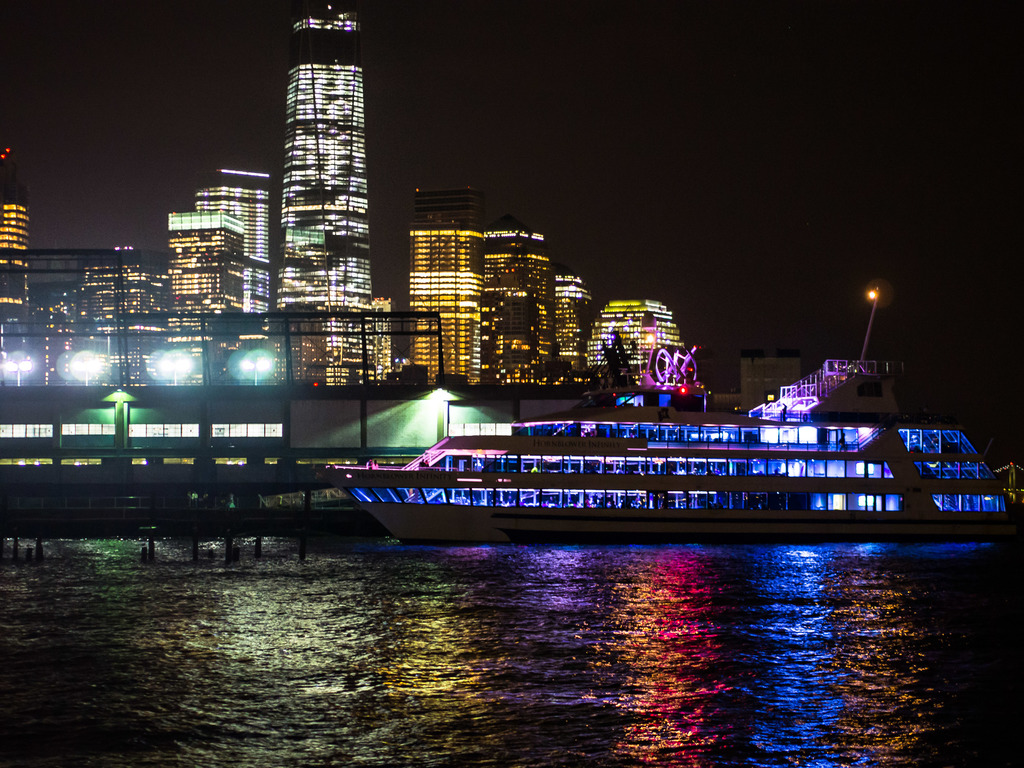boat: (325, 329, 1022, 568)
